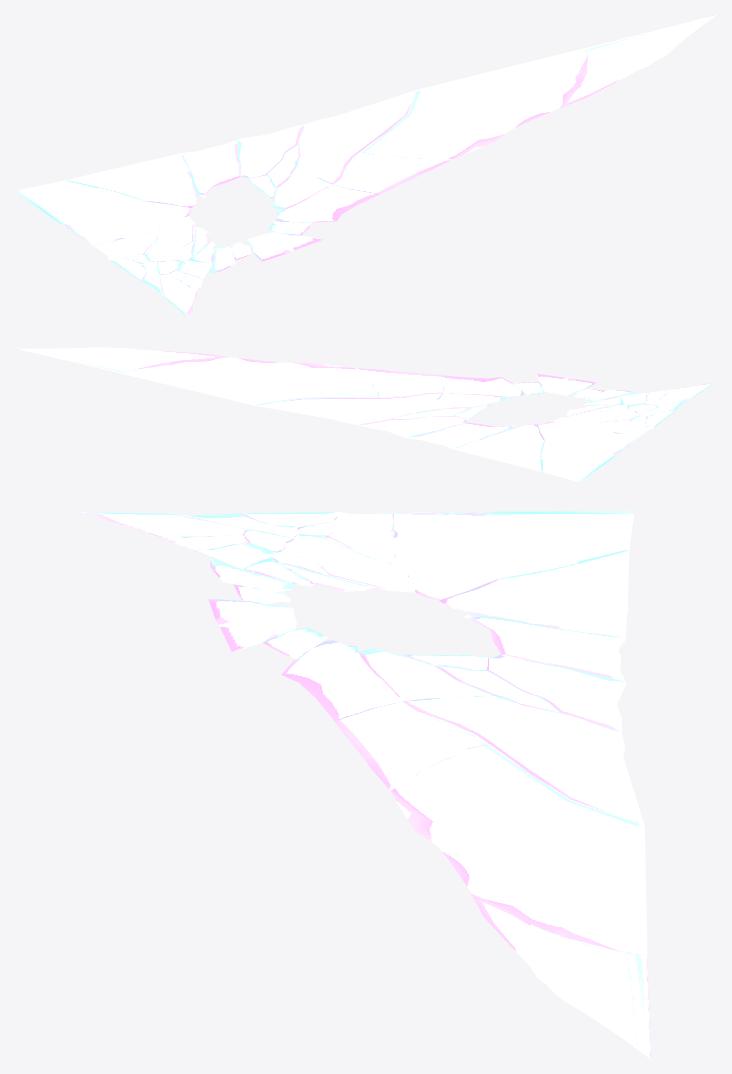
File: Nero_HPGlass.fbx
The picture shows the model from 3 angles, top to bottom: view 1: azimuth 30°, elevation 25°; view 2: azimuth 150°, elevation 25°; view 3: azimuth 270°, elevation 25°; orthographic projection. The views are drawn at different scales.
Visible parts, largest first — view 1: LOD_1_Group_0_Sub_1__phong1.001; view 2: LOD_1_Group_0_Sub_1__phong1.001; view 3: LOD_1_Group_0_Sub_1__phong1.001.
Part boxes in pixels (box(x1,y1,x2,y2)): LOD_1_Group_0_Sub_1__phong1.001: box(14, 14, 717, 318); LOD_1_Group_0_Sub_1__phong1.001: box(15, 347, 717, 482); LOD_1_Group_0_Sub_1__phong1.001: box(81, 511, 651, 1059).
Bounding box in the file's own units: 1185 × 0.0702 × 520.
